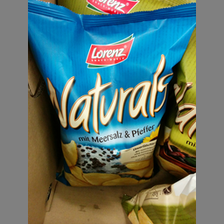chips: (29, 5, 176, 189)
